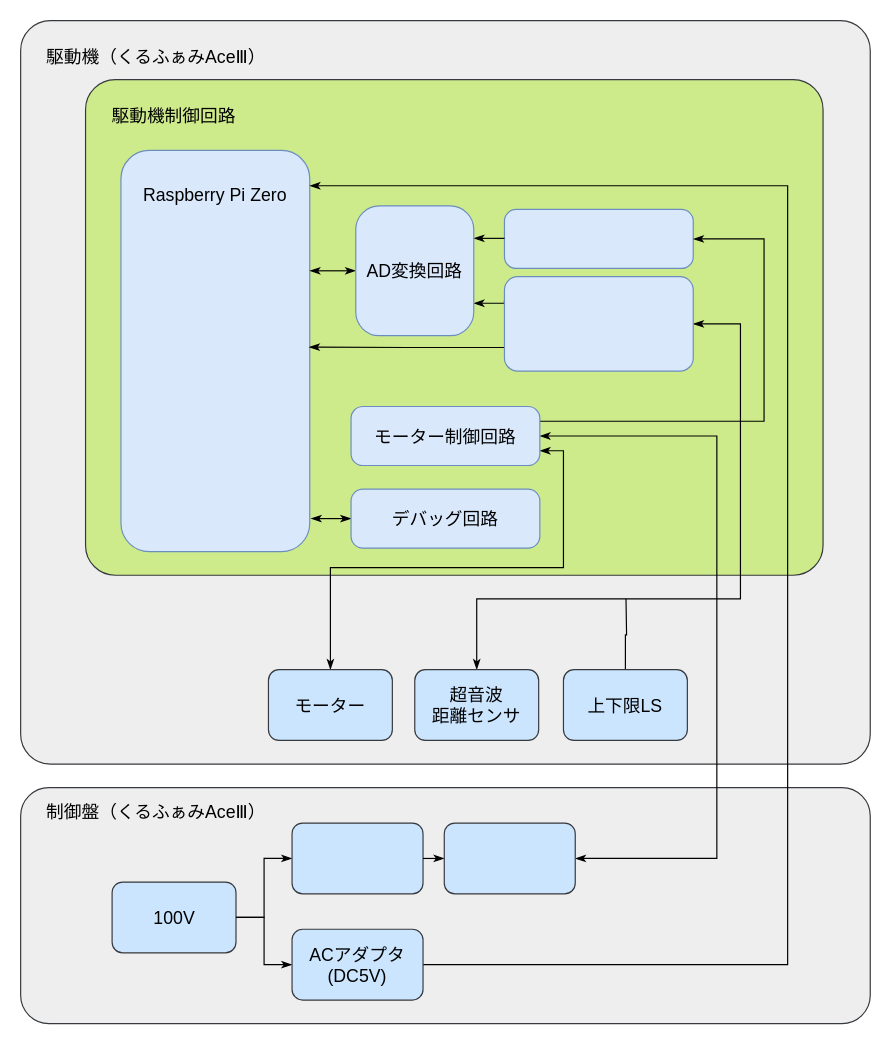
Some shapes in this 891 by 1044 pixel diagram are drawn without their labels. The centre of each missing label's shape, as x and y in pixels:
"24V ダウントランス" belongs at (x=357, y=858).
"ヒューズ (4A)" belongs at (x=509, y=858).
"モーター位置 検知回路" belongs at (x=598, y=323).
"電流モニタ回路" belongs at (x=598, y=238).
